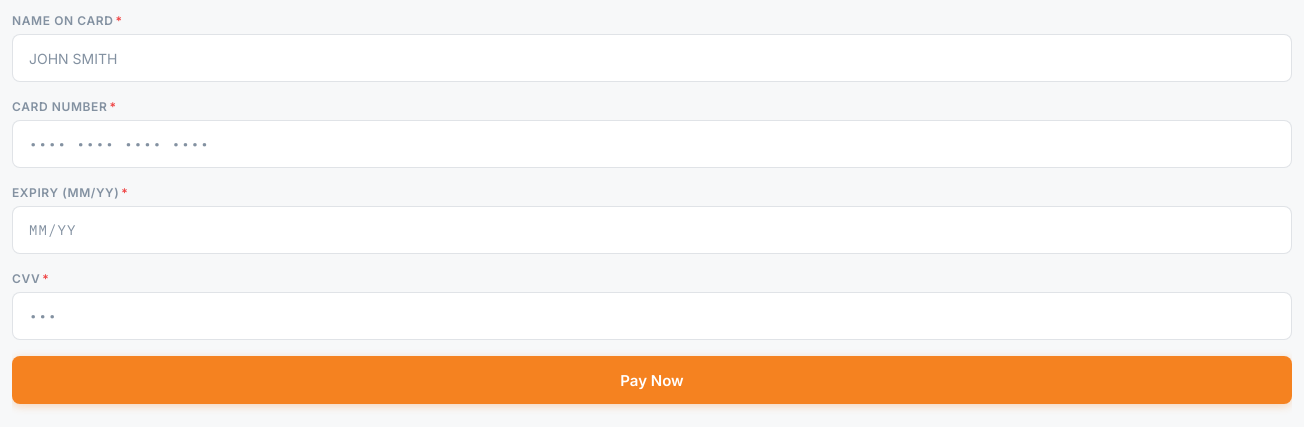
it: CreditCardForm › formats expiry with slash as user types
The width and height of the screenshot is (1304, 427).
Type "1228" into the field with placeholder "MM/YY" at (652, 230), box [12,206,1292,254]
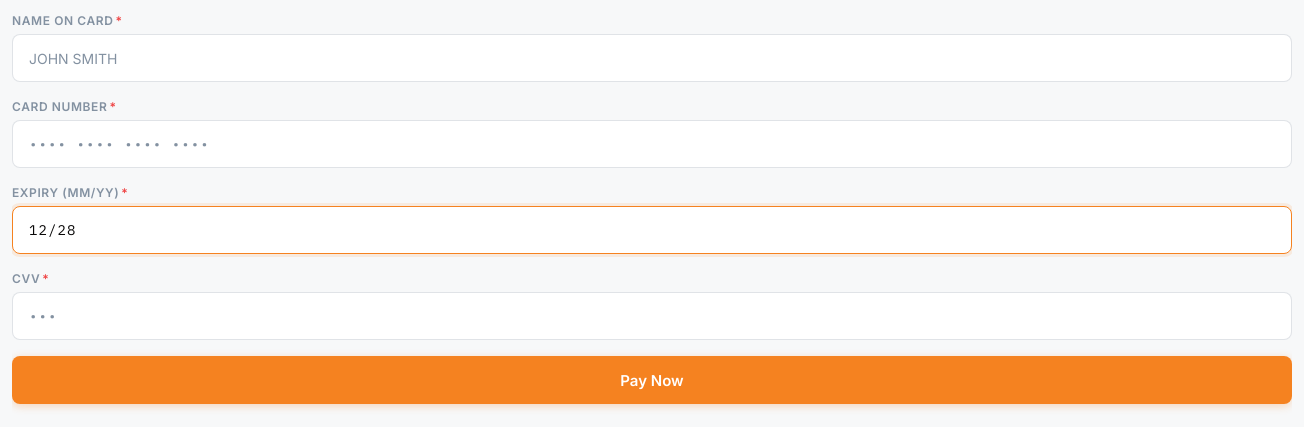
Expected: the field with placeholder "MM/YY" holds "12/28", [12,206,1292,254]
